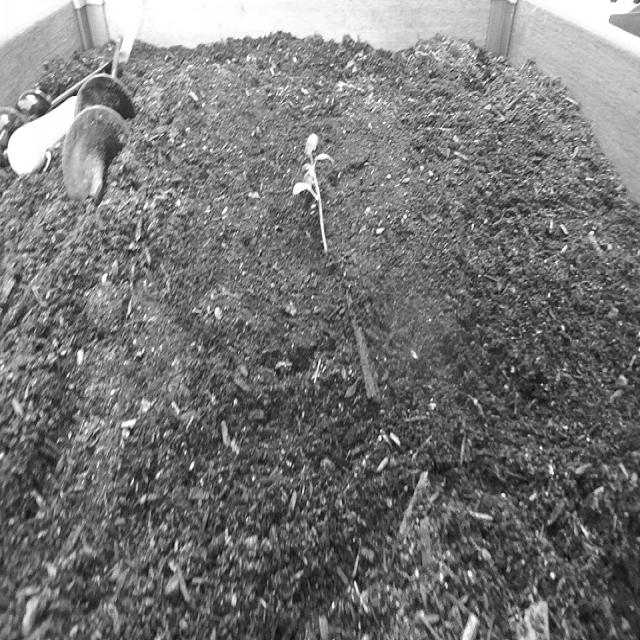Healthy: (290, 128, 339, 258)
